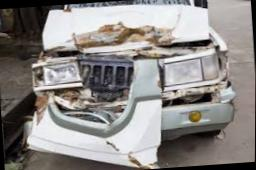Bonnet: (40, 5, 213, 52)
Bumper: (21, 82, 232, 165)
Light: (33, 57, 83, 88)
